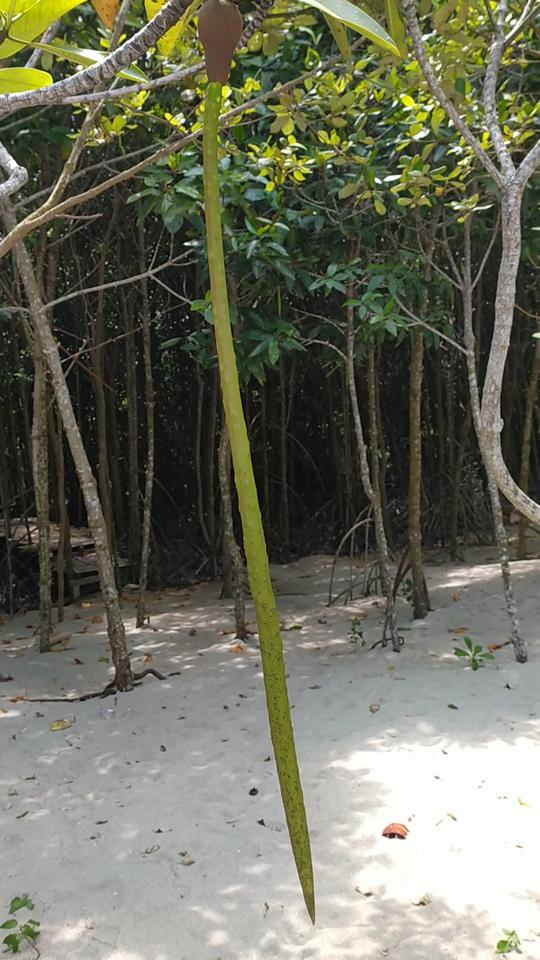mentah: (165, 1, 337, 936)
